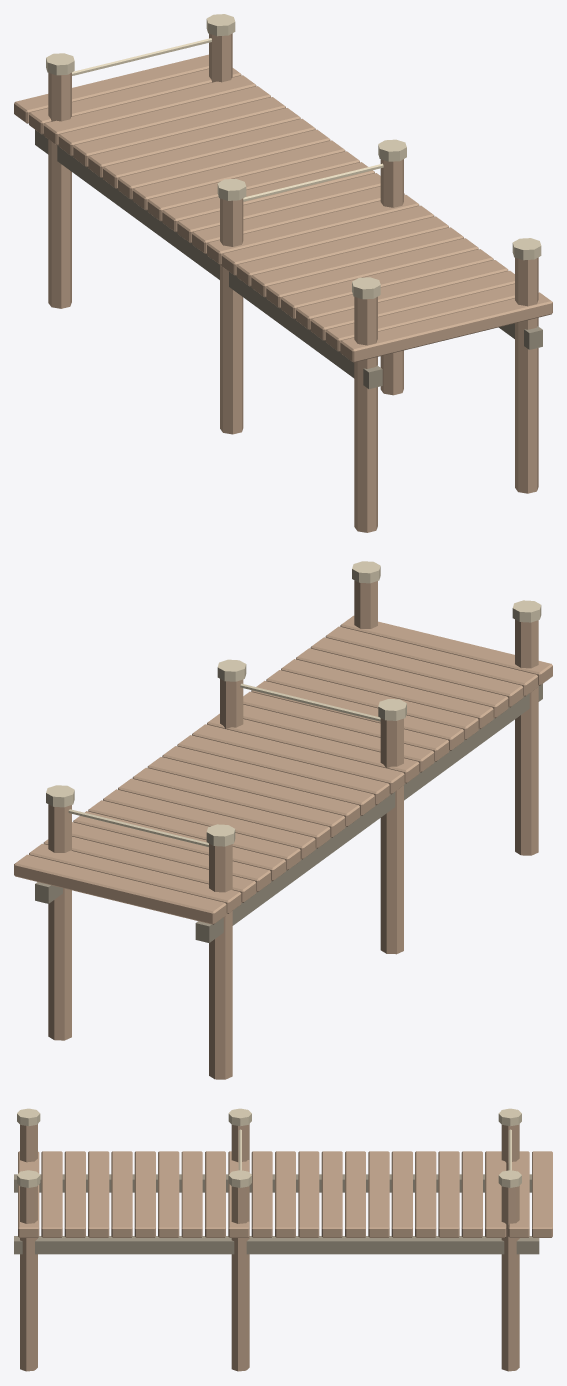
The model's file is Dock.fbx.
3 renders of one model, top to bottom at view 1: azimuth 30°, elevation 25°; view 2: azimuth 150°, elevation 25°; view 3: azimuth 270°, elevation 25°, orthographic. The views are drawn at different scales.
Visible parts, largest first — view 1: Long support, Dock post, Dock post.003, Weathered plank, Dock post.002, Dock post.001, Weathered plank.008, Weathered plank.018, Weathered plank.006, Weathered plank.019, Weathered plank.007, Weathered plank.015 (+20 smaller); view 2: Long support, Weathered plank.022, Dock post.002, Dock post, Dock post.001, Dock post.005, Weathered plank.002, Weathered plank.004, Weathered plank.014, Weathered plank.003, Weathered plank.010, Weathered plank.015 (+20 smaller); view 3: Long support.001, Dock post.005, Dock post.004, Dock post.003, Weathered plank.001, Weathered plank.002, Weathered plank.003, Weathered plank.004, Weathered plank.005, Weathered plank.006, Weathered plank.007, Weathered plank.012 (+25 smaller).
Boxes of the visible parts, <box> form: Long support: <box>35,130,382,388</box>; Dock post: <box>354,296,377,532</box>; Dock post.003: <box>515,257,538,493</box>; Weathered plank: <box>340,292,552,362</box>; Dock post.002: <box>48,72,71,308</box>; Dock post.001: <box>220,198,243,434</box>; Weathered plank.008: <box>221,205,434,275</box>; Weathered plank.018: <box>73,97,285,167</box>; Weathered plank.006: <box>251,227,463,297</box>; Weathered plank.019: <box>58,86,270,156</box>; Weathered plank.007: <box>236,216,448,286</box>; Weathered plank.015: <box>118,129,330,199</box>; Long support: <box>195,684,542,942</box>; Weathered plank.022: <box>14,854,226,924</box>; Dock post.002: <box>209,843,232,1079</box>; Dock post: <box>515,619,538,855</box>; Dock post.001: <box>380,718,403,954</box>; Dock post.005: <box>48,804,71,1040</box>; Weathered plank.002: <box>310,637,523,707</box>; Weathered plank.004: <box>281,659,493,729</box>; Weathered plank.014: <box>132,767,345,837</box>; Weathered plank.003: <box>296,648,508,718</box>; Weathered plank.010: <box>192,724,404,794</box>; Weathered plank.015: <box>118,778,330,848</box>; Long support.001: <box>14,1236,539,1254</box>; Dock post.005: <box>501,1186,519,1371</box>; Dock post.004: <box>231,1186,249,1371</box>; Dock post.003: <box>20,1186,37,1371</box>; Weathered plank.001: <box>41,1151,62,1237</box>; Weathered plank.002: <box>64,1151,85,1237</box>; Weathered plank.003: <box>88,1151,109,1237</box>; Weathered plank.004: <box>111,1151,132,1237</box>; Weathered plank.005: <box>134,1151,155,1237</box>; Weathered plank.006: <box>158,1151,179,1237</box>; Weathered plank.007: <box>181,1151,202,1237</box>; Weathered plank.012: <box>298,1151,319,1237</box>.
Bounding box in the file's own units: 2.5 × 2.91 × 7.38.
